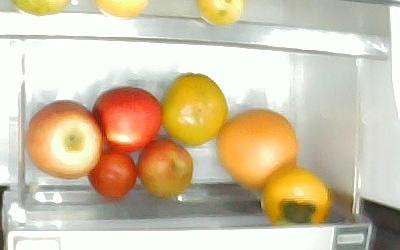apple: (25, 99, 102, 179), (91, 85, 162, 153)
grapefruit: (215, 107, 297, 190)
persimmon: (158, 71, 228, 146), (259, 164, 330, 225)
prune: (136, 136, 193, 198), (86, 147, 136, 198)
